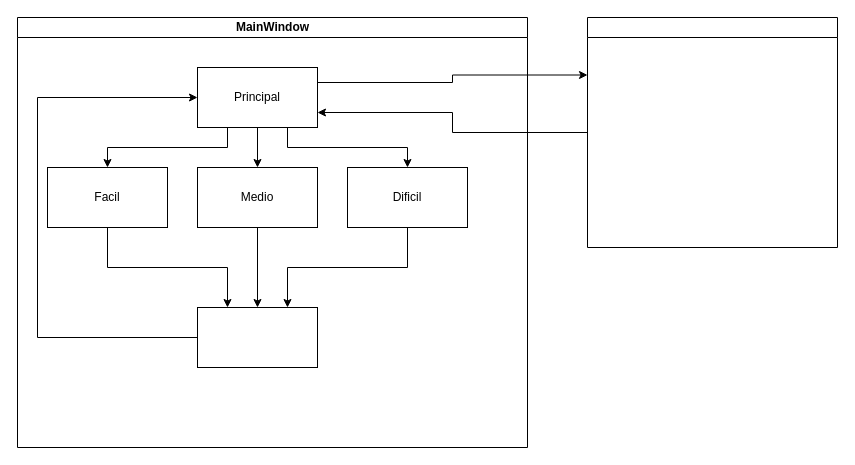
Image size: 855x465. Some labels were removed from this diagram. The shapes that lost their labels are listed below. From the top down, each one's centre as x and y in pixels, then its label:
At (x=712, y=132): "Settings".
At (x=257, y=337): "Final".
